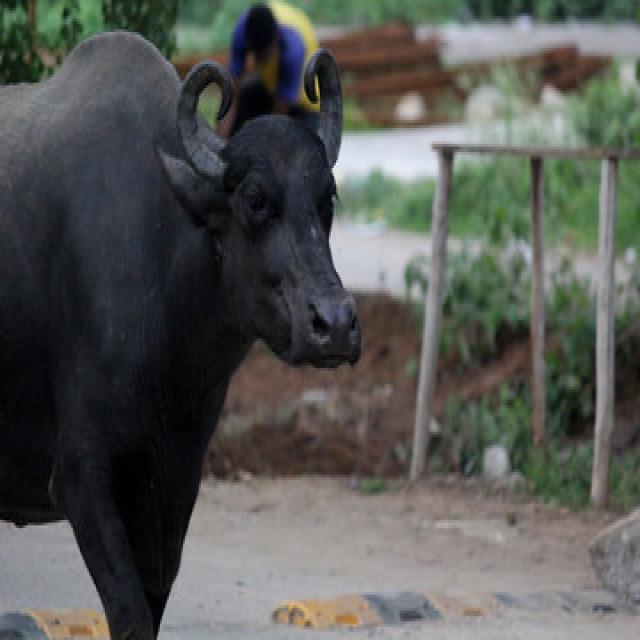Buffalo: (0, 24, 363, 637)
